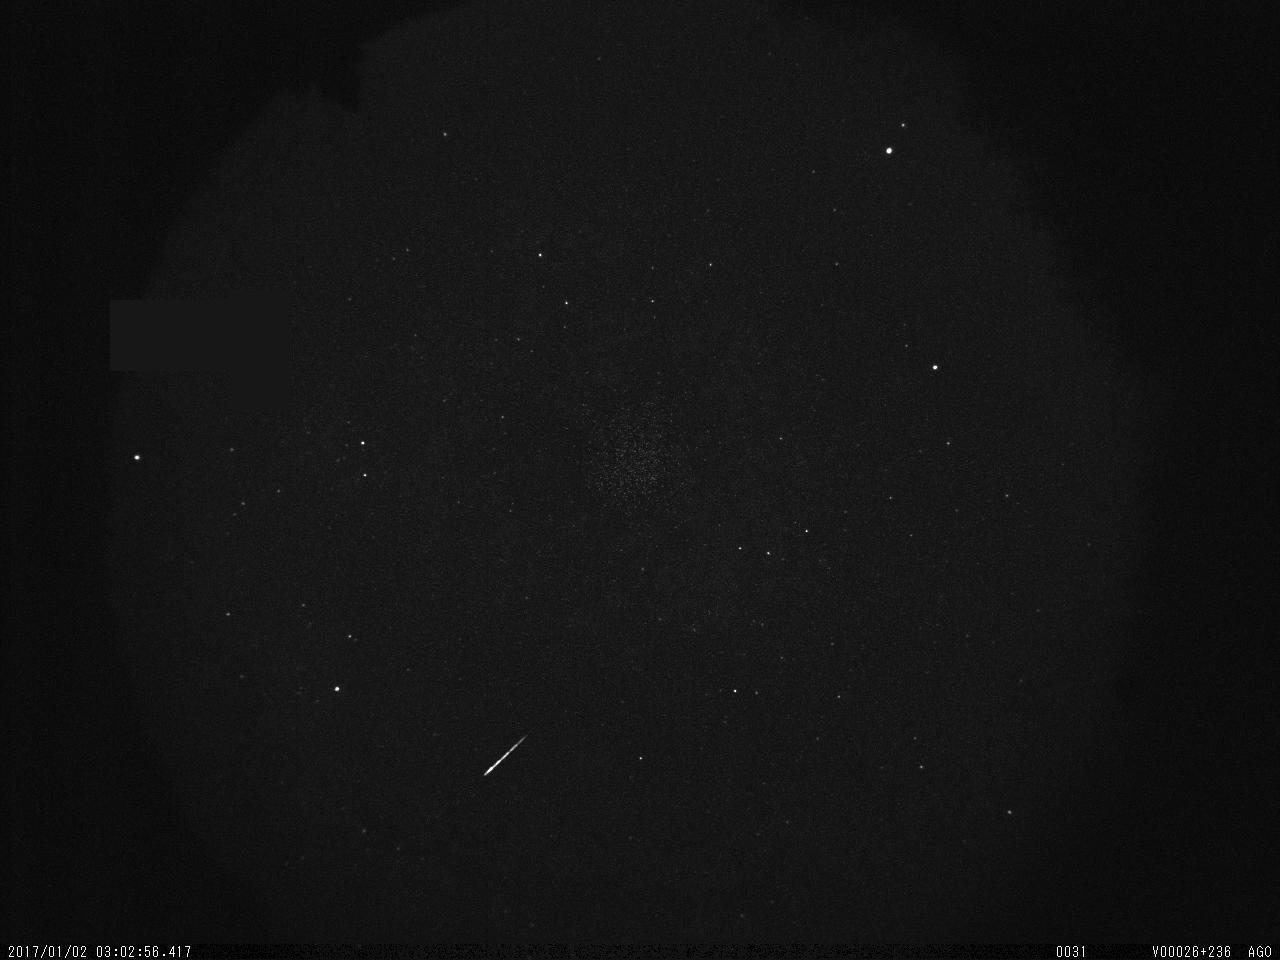meteor: (480, 735, 538, 784)
